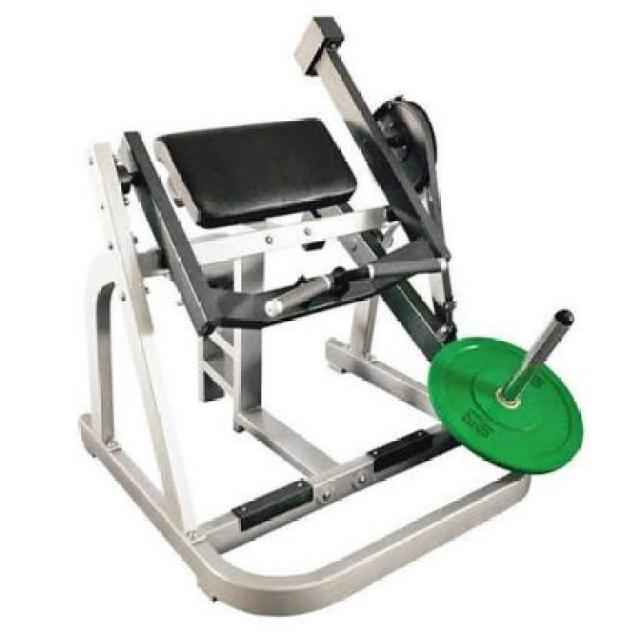arm curl machine: (77, 15, 583, 617)
